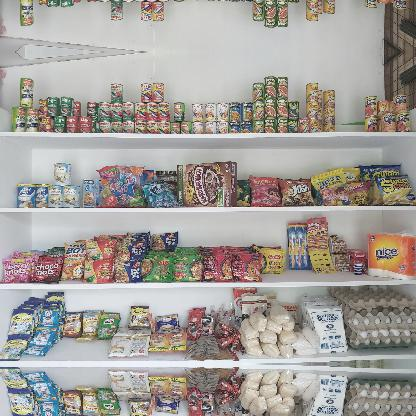Koko-Krunch: (176, 161, 238, 207)
